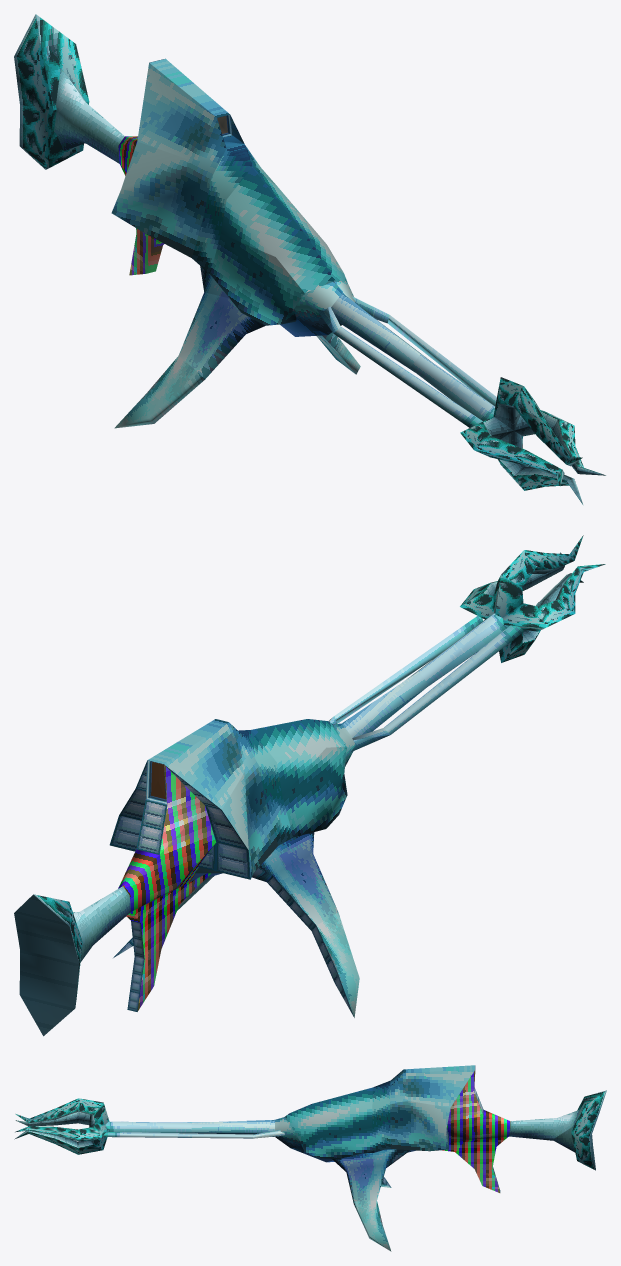
File: 15-farsight-xr-20-fp.glb
3 renders of one model, top to bottom at view 1: azimuth 30°, elevation 25°; view 2: azimuth 150°, elevation 25°; view 3: azimuth 270°, elevation 25°, orthographic. The views are drawn at different scales.
Visible parts, largest first — view 1: gun; view 2: gun; view 3: gun.
Boxes of the visible parts, left/top/right/bottom form: gun: left=14, top=14, right=605, bottom=504; gun: left=14, top=535, right=605, bottom=1036; gun: left=14, top=1065, right=606, bottom=1251.
Size of the model in its own units: 351 by 392 by 1381.
12 materials, 12 textured.
